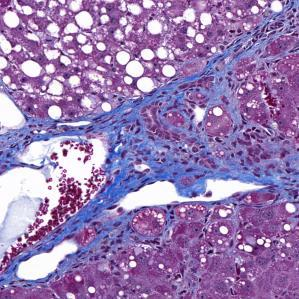fibrosis: (106, 120, 229, 185), (185, 41, 263, 104)
